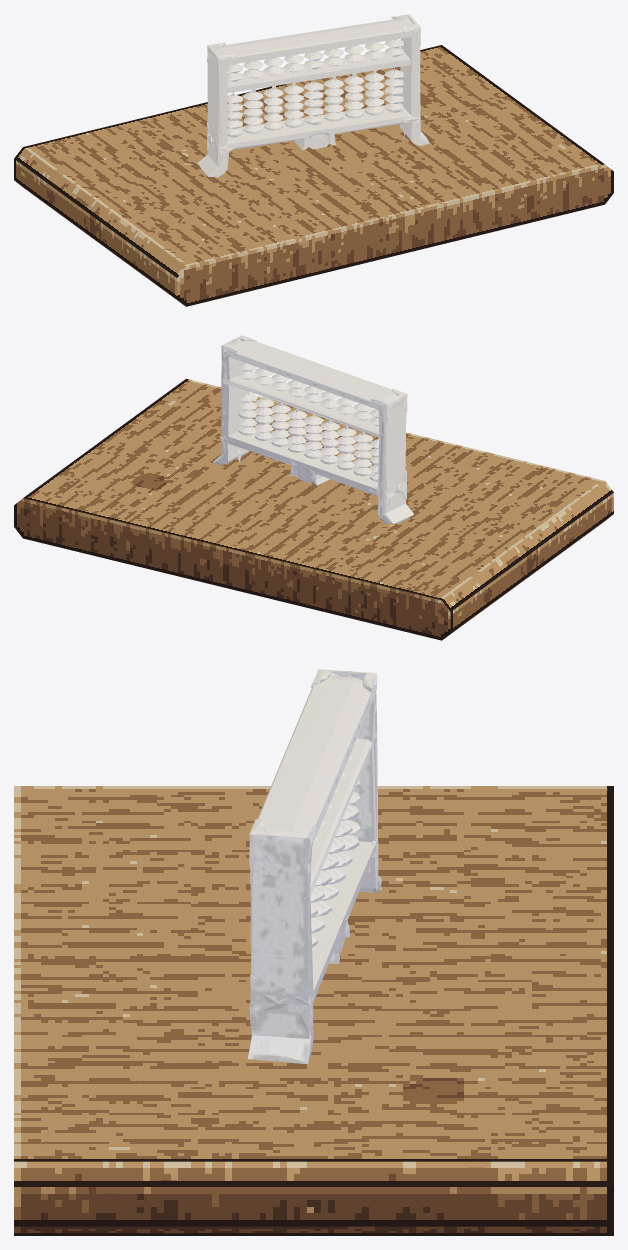
Rendered from soroban.glb.
3 views of the same model, one above another, from view 1: azimuth 30°, elevation 25°; view 2: azimuth 150°, elevation 25°; view 3: azimuth 270°, elevation 25° (orthographic). The views are drawn at different scales.
Parts seen in each view (by area): view 1: base, model_m; view 2: base, model_m; view 3: base, model_m.
Boxes of the visible parts, <box> form: base: <box>14,45,613,306</box>; model_m: <box>198,14,429,177</box>; base: <box>14,378,613,640</box>; model_m: <box>213,335,414,523</box>; base: <box>14,786,613,1235</box>; model_m: <box>248,669,382,1064</box>.
Size of the model in its own units: 34 by 12 by 22.
Materials: 2 (2 with a texture image).
